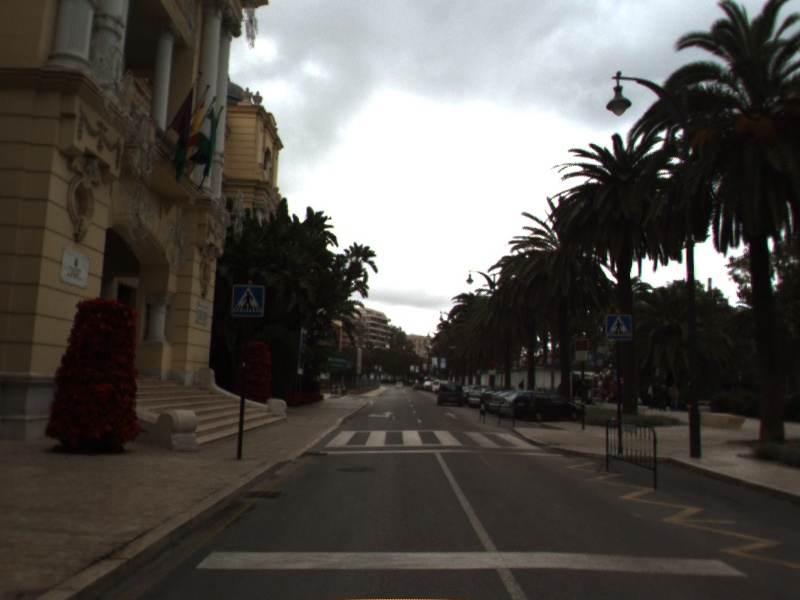STRAIGHT: (442, 409, 461, 422)
STRAIGHT_LEFT: (365, 409, 397, 420)
